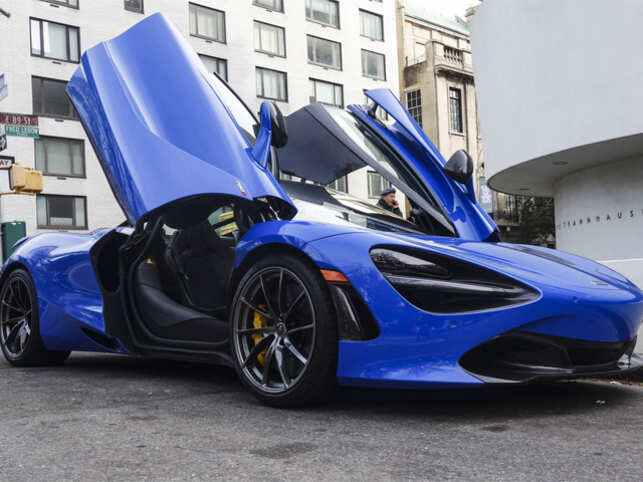car: (5, 94, 643, 426)
